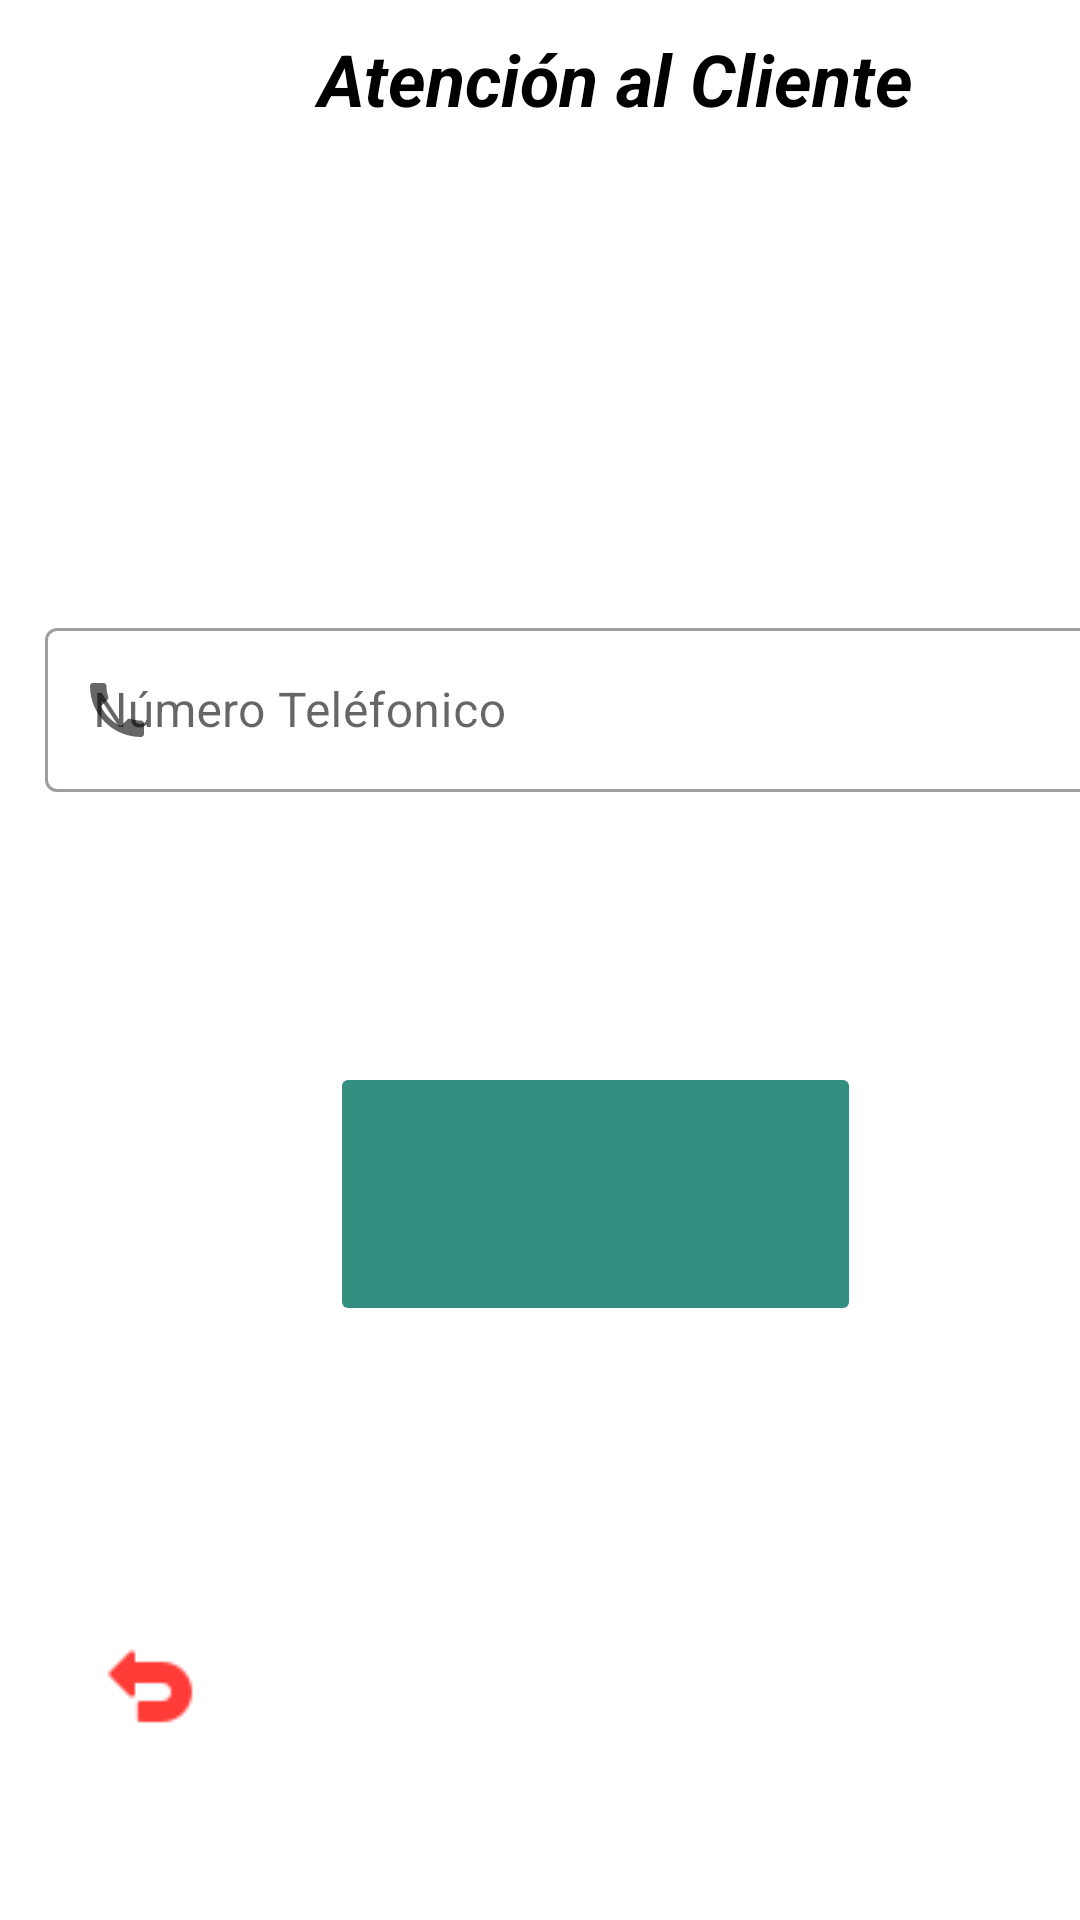

Point at icon controls on the screen. Image size 1080 x 1920, points as (x,y).
regresarflecha: (150,1686)
